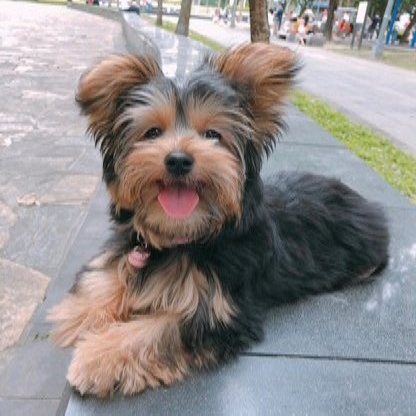yorkshire: (48, 41, 392, 403)
